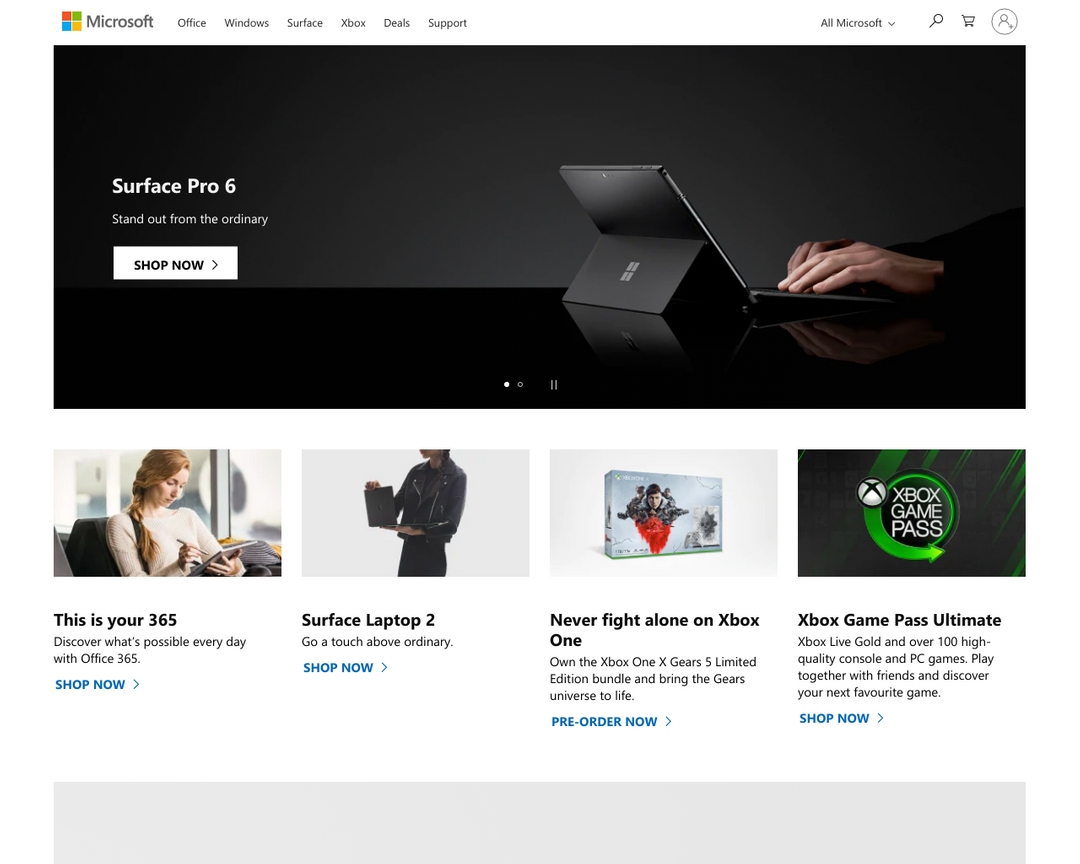Microsoft: (58, 7, 158, 33)
